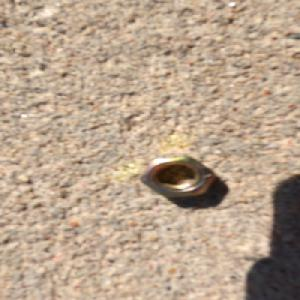Nut: (138, 157, 215, 201)
